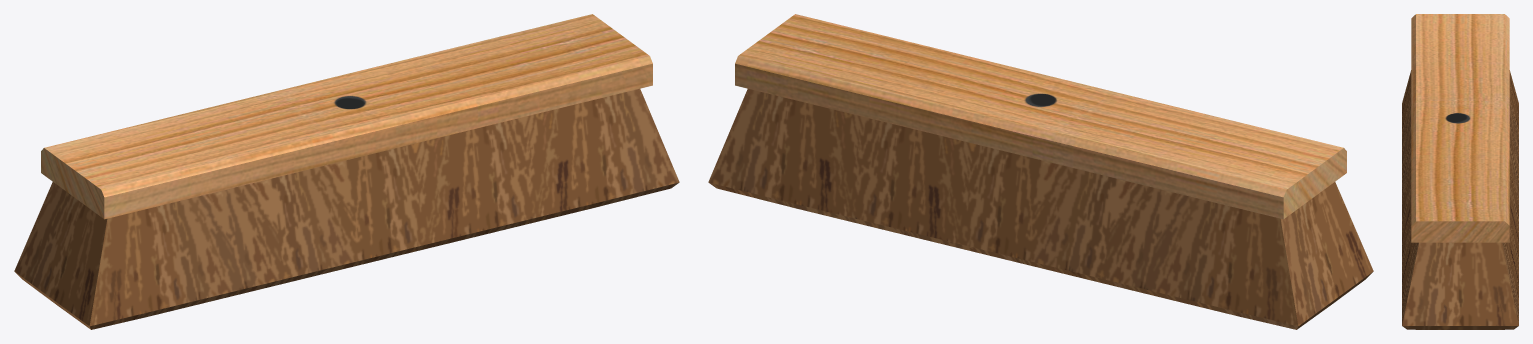
Rendered from broom.fbx.
The picture shows the model from 3 angles, left to right: view 1: azimuth 30°, elevation 25°; view 2: azimuth 150°, elevation 25°; view 3: azimuth 270°, elevation 25°; orthographic projection. The views are drawn at different scales.
Visible parts, largest first — view 1: pCube1; view 2: pCube1; view 3: pCube1.
Boxes of the visible parts, box(x1,y1,x2,y2) form: pCube1: box(14, 14, 679, 329); pCube1: box(708, 14, 1373, 329); pCube1: box(1402, 14, 1518, 329).
Bounding box in the file's own units: 1076 × 237 × 238.
